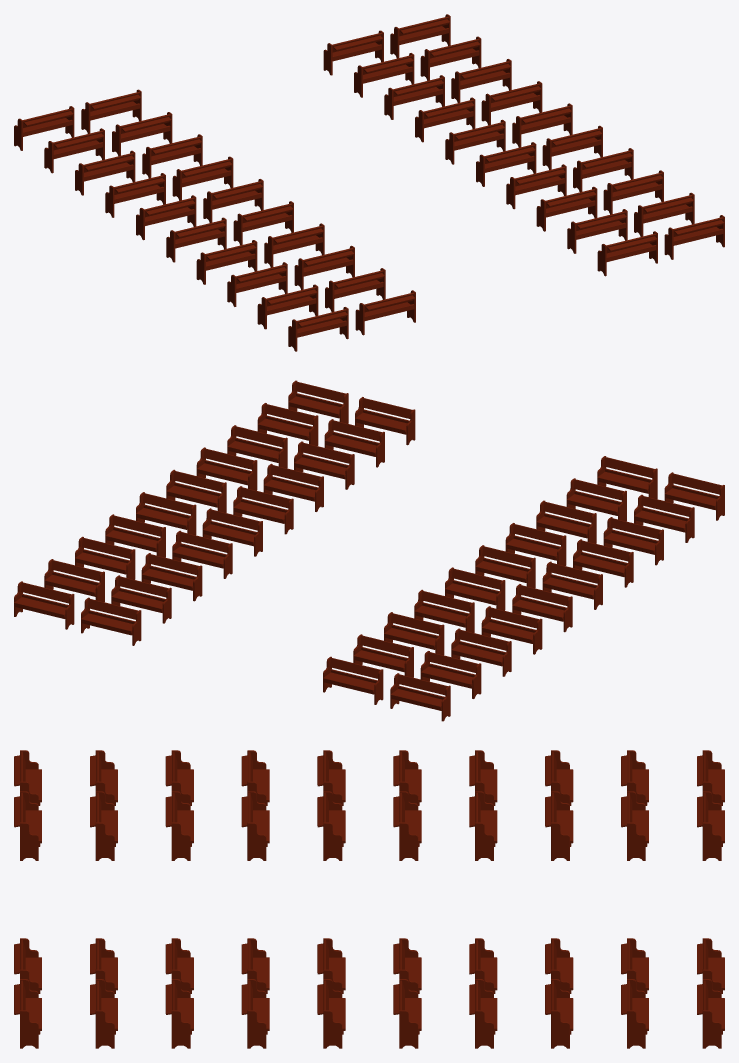
The model's file is Chair.FBX.
The picture shows the model from 3 angles, top to bottom: view 1: azimuth 30°, elevation 25°; view 2: azimuth 150°, elevation 25°; view 3: azimuth 270°, elevation 25°; orthographic projection. The views are drawn at different scales.
Visible parts, largest first — view 1: Chair; view 2: Chair; view 3: Chair.
Part boxes in pixels (bbox=[...]): Chair: bbox=[14, 14, 724, 351]; Chair: bbox=[14, 380, 724, 721]; Chair: bbox=[14, 750, 724, 1048].
Size of the model in its own units: 1620 by 109 by 1866.
